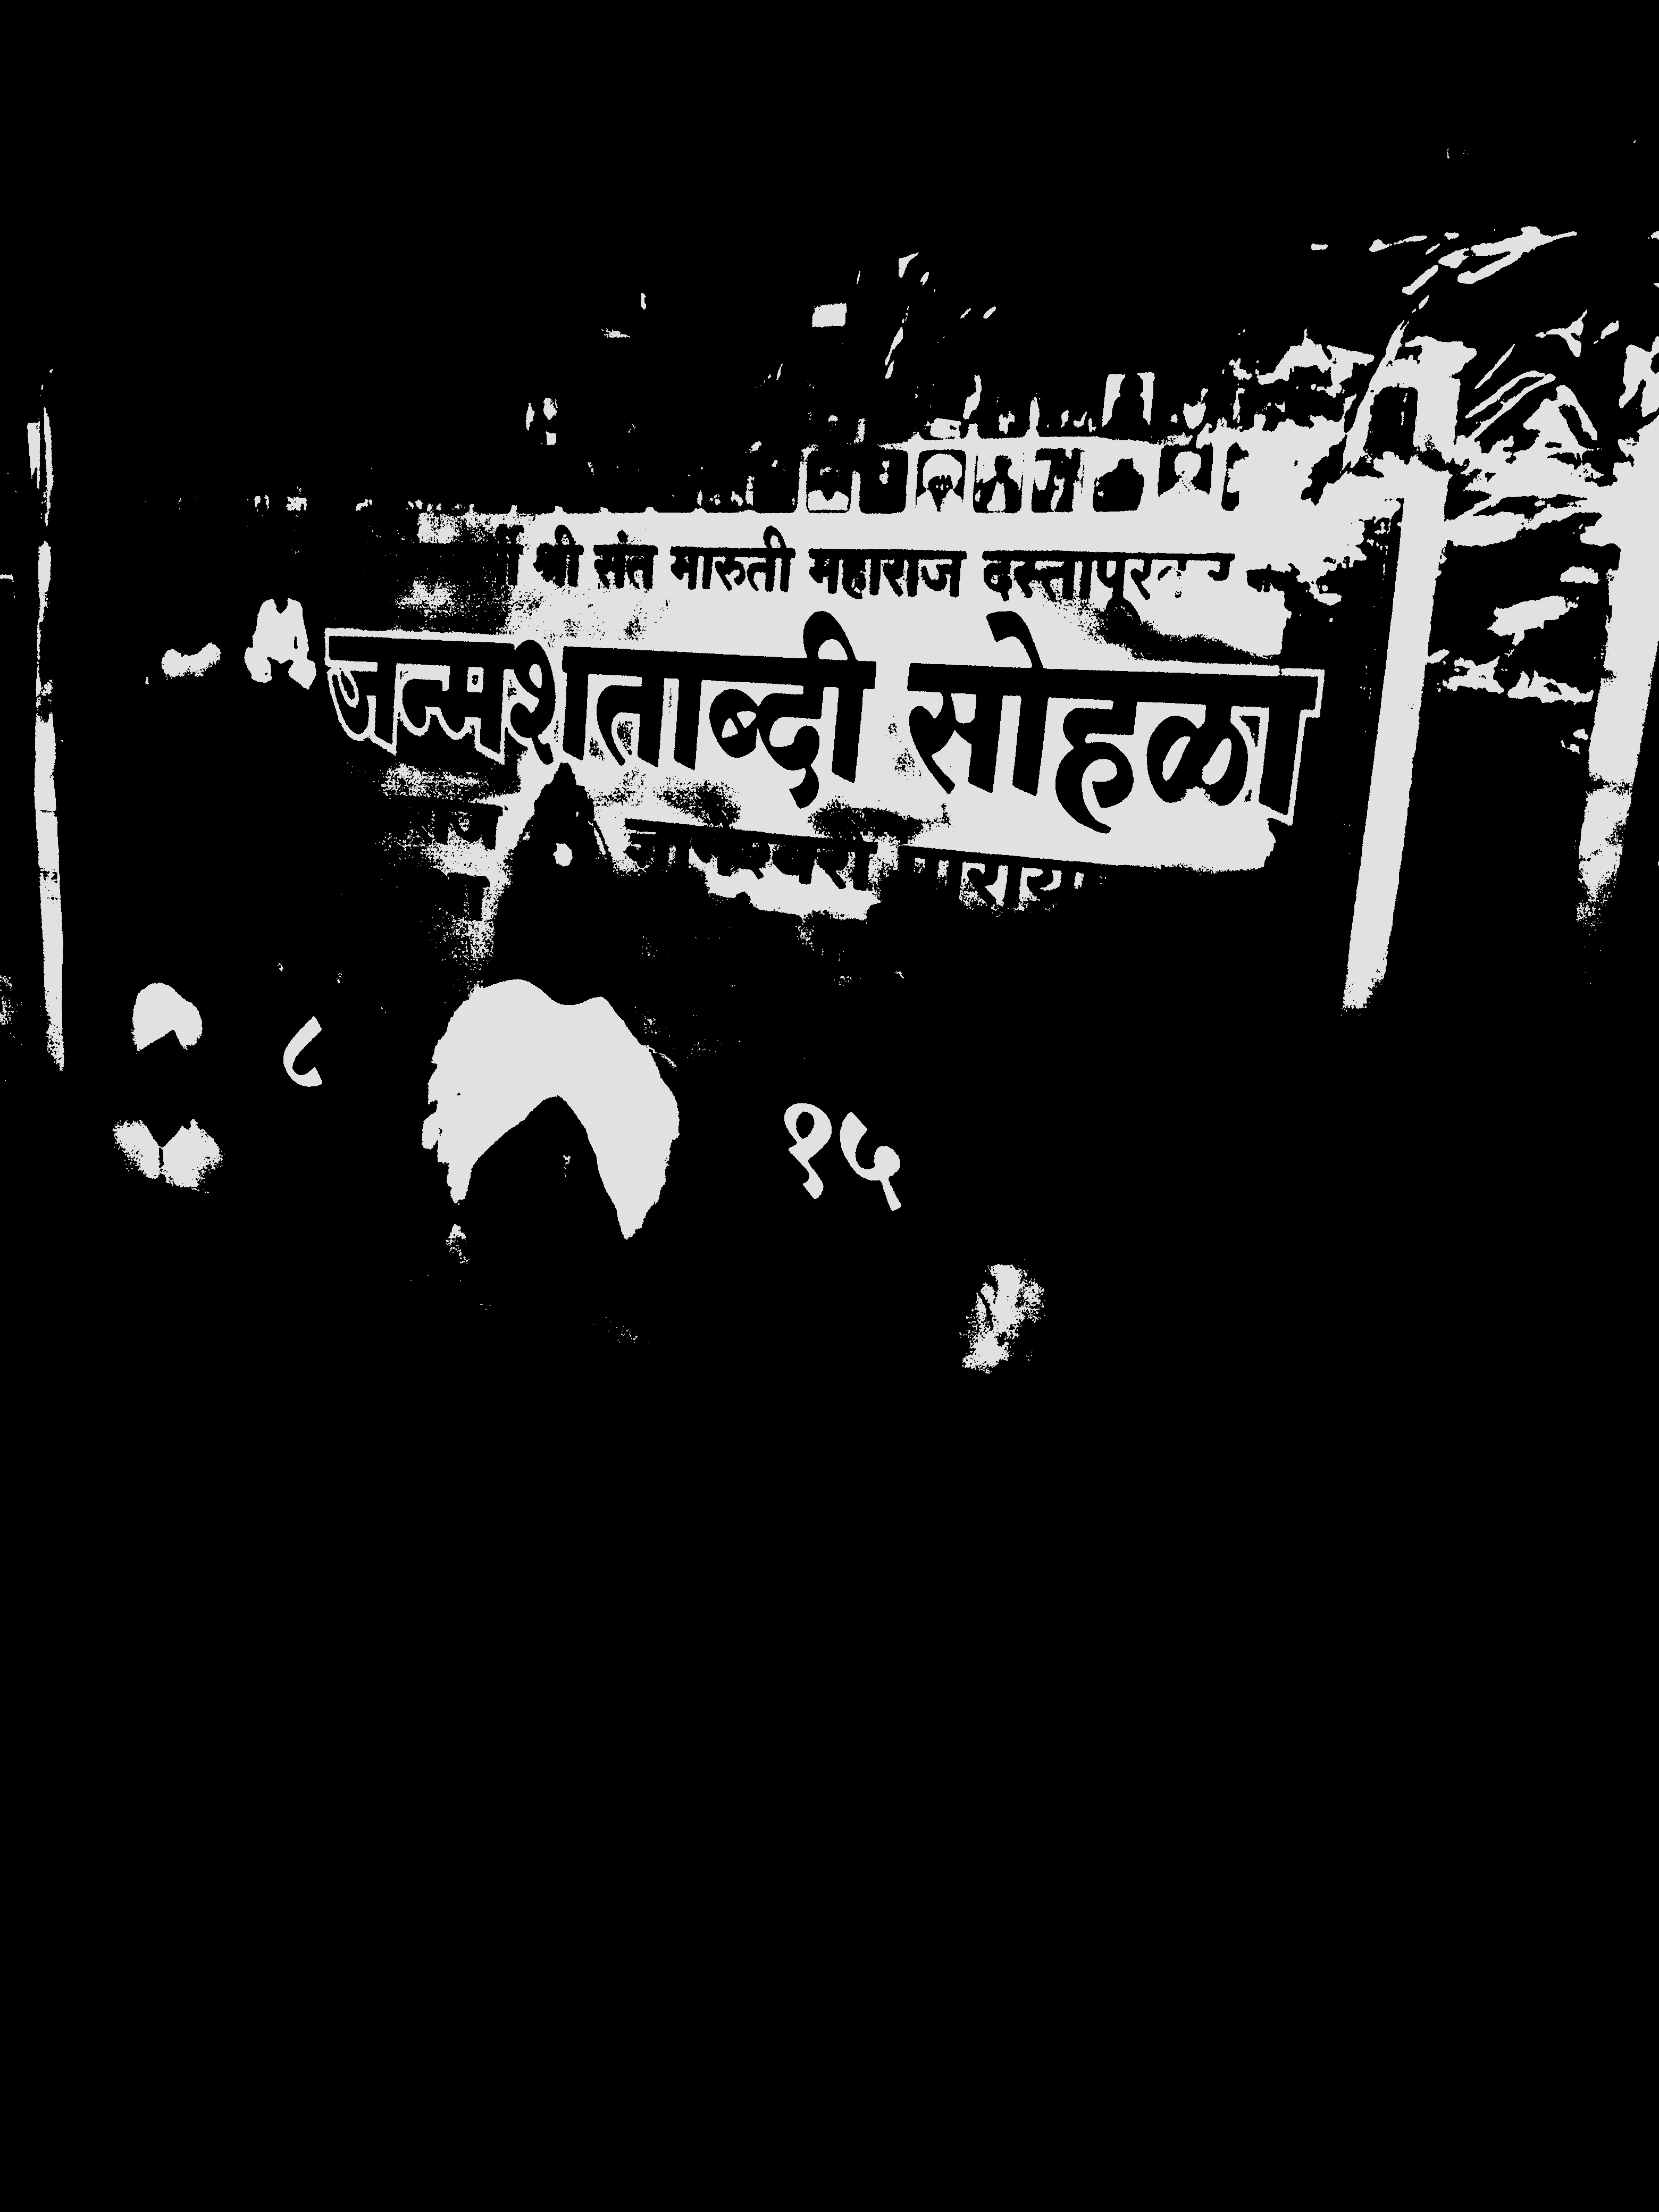text: (35, 260, 1659, 2196)
